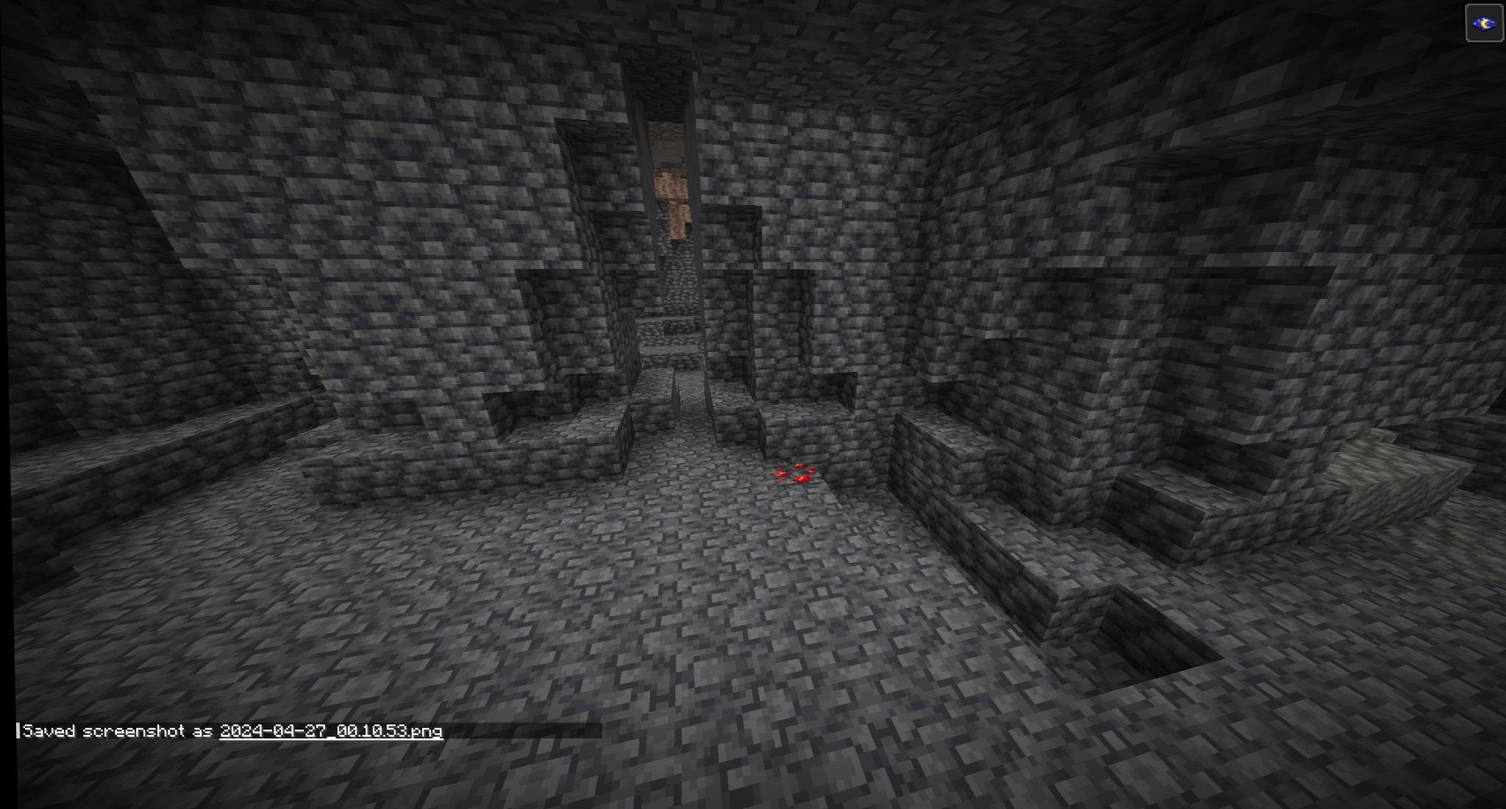redstone ore: (767, 458, 813, 490)
